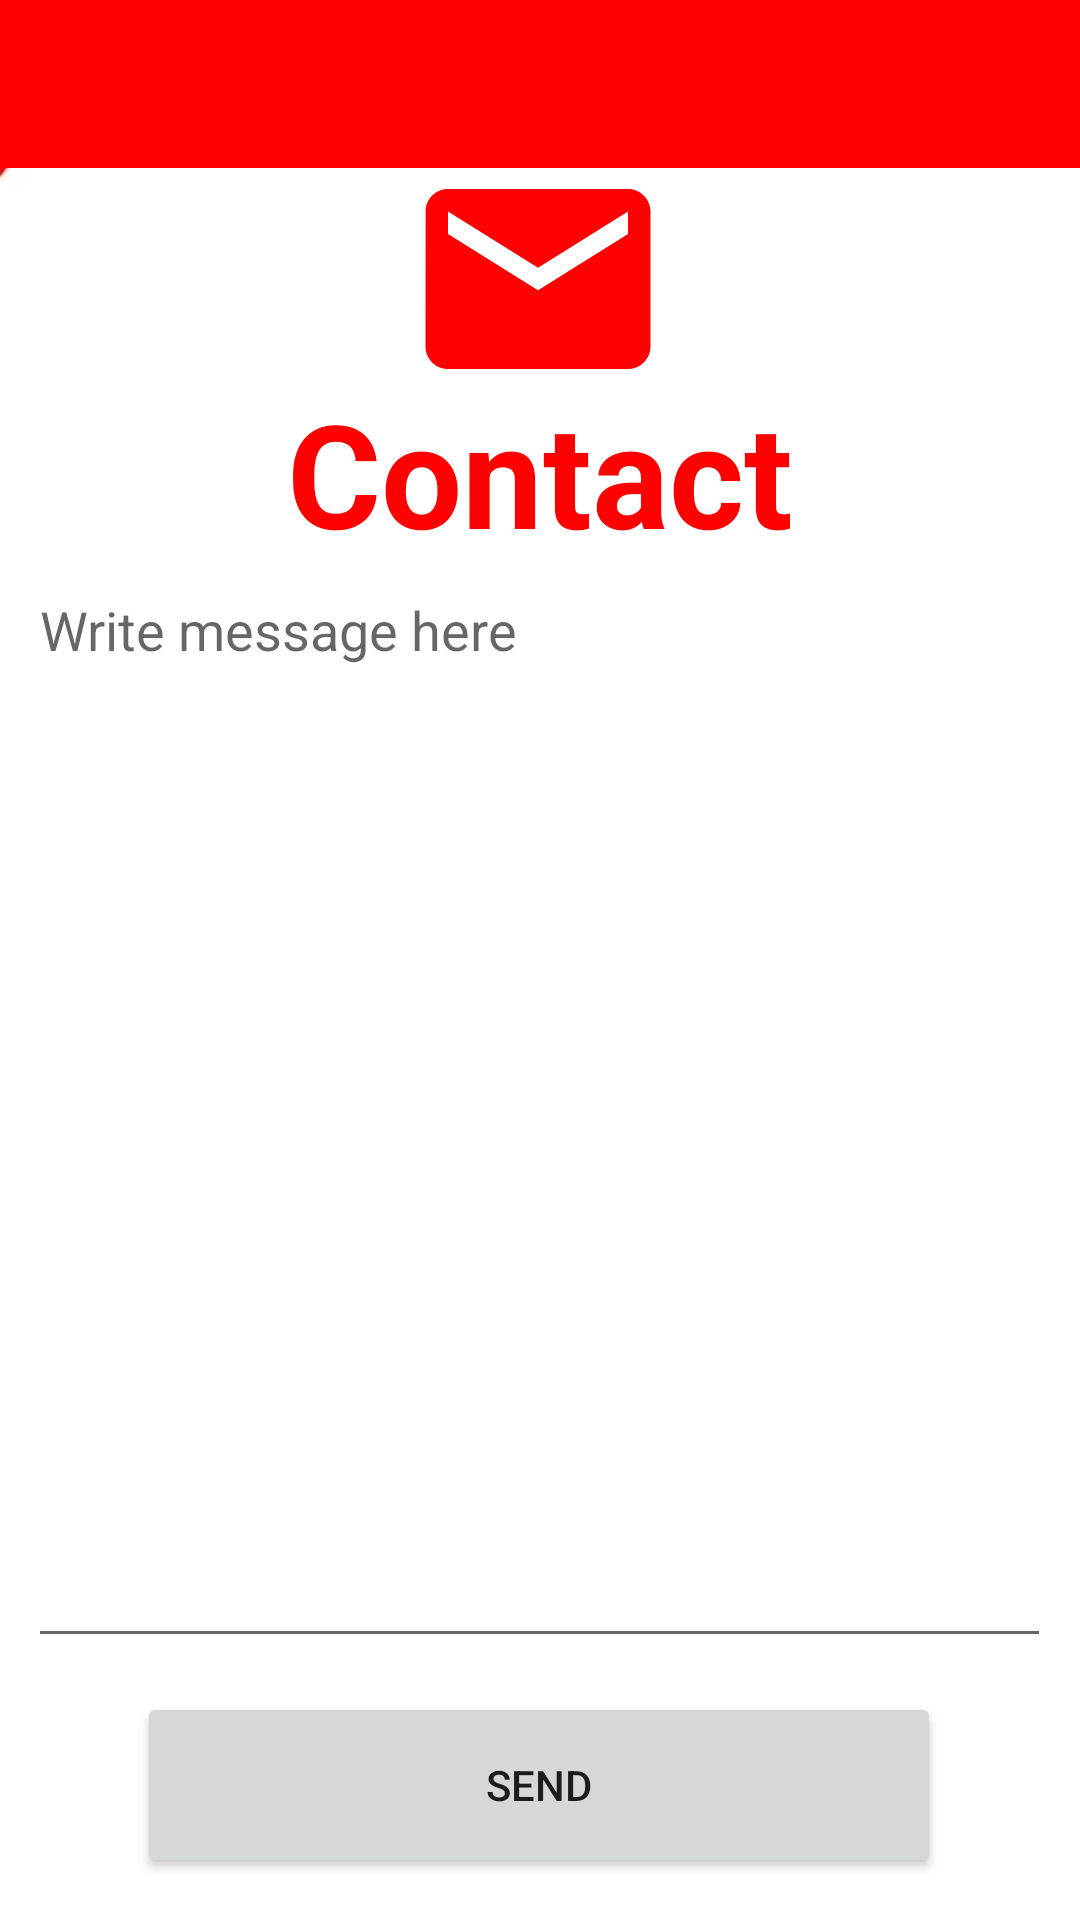

Where icons sit on this 1080w x 1920h app screen, as box=[x1, y1, x2, y2]:
email: box=[425, 189, 651, 369]
